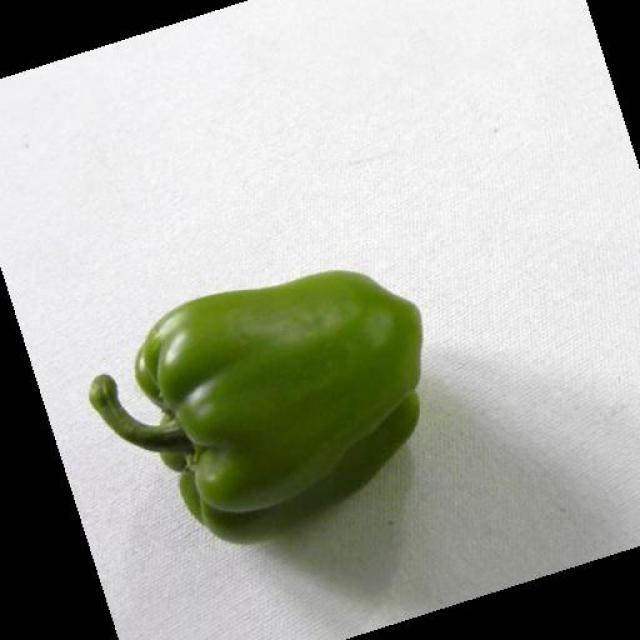Fresh_Capsicum: (77, 258, 437, 540)
